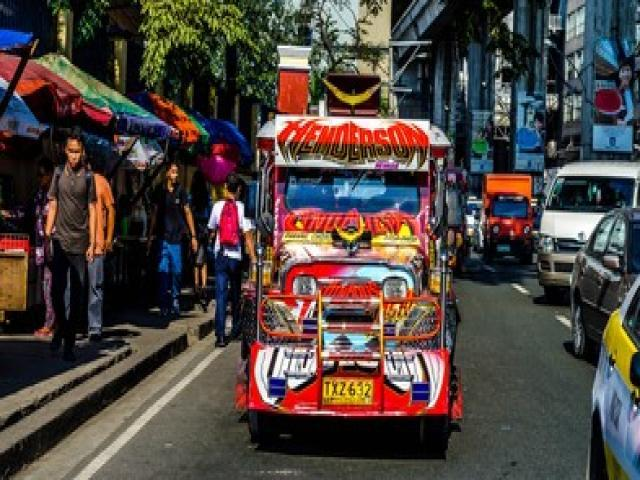jeepney: (245, 114, 467, 447)
